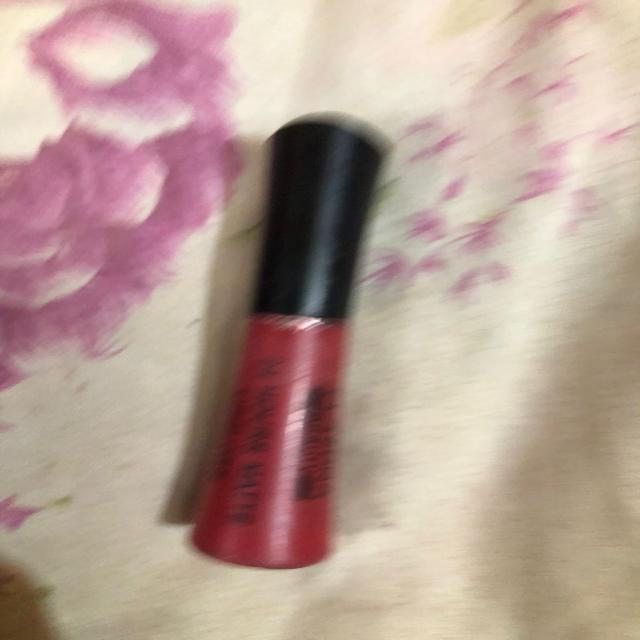lip gloss: (148, 87, 417, 590)
